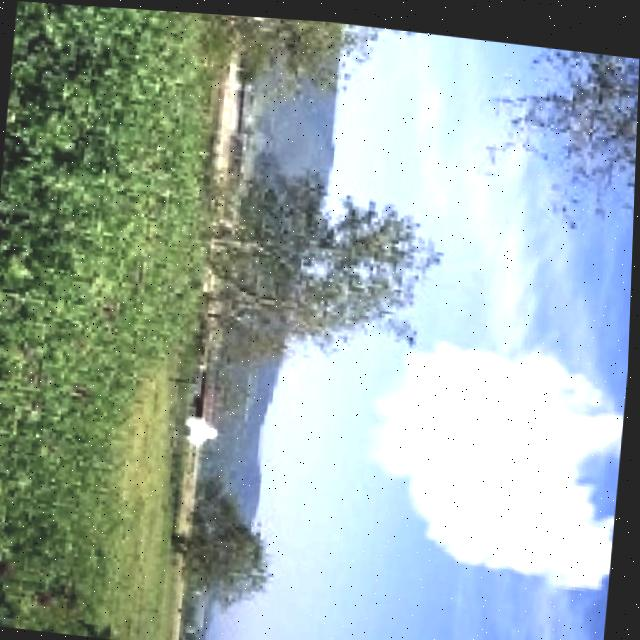Smoke: (346, 311, 631, 589)
